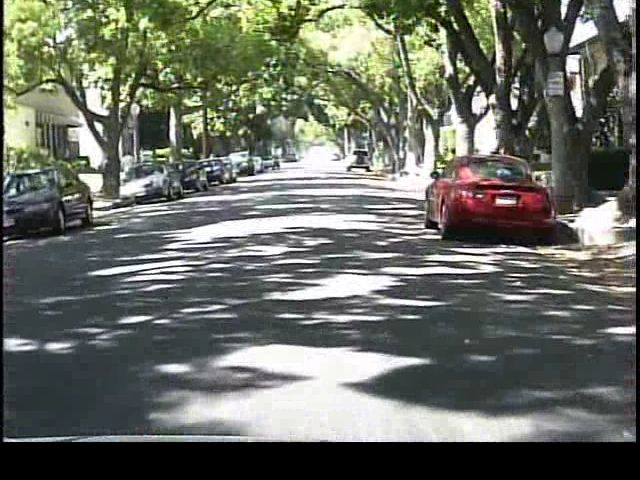car: (416, 148, 573, 247), (1, 156, 104, 236), (117, 161, 189, 209)
